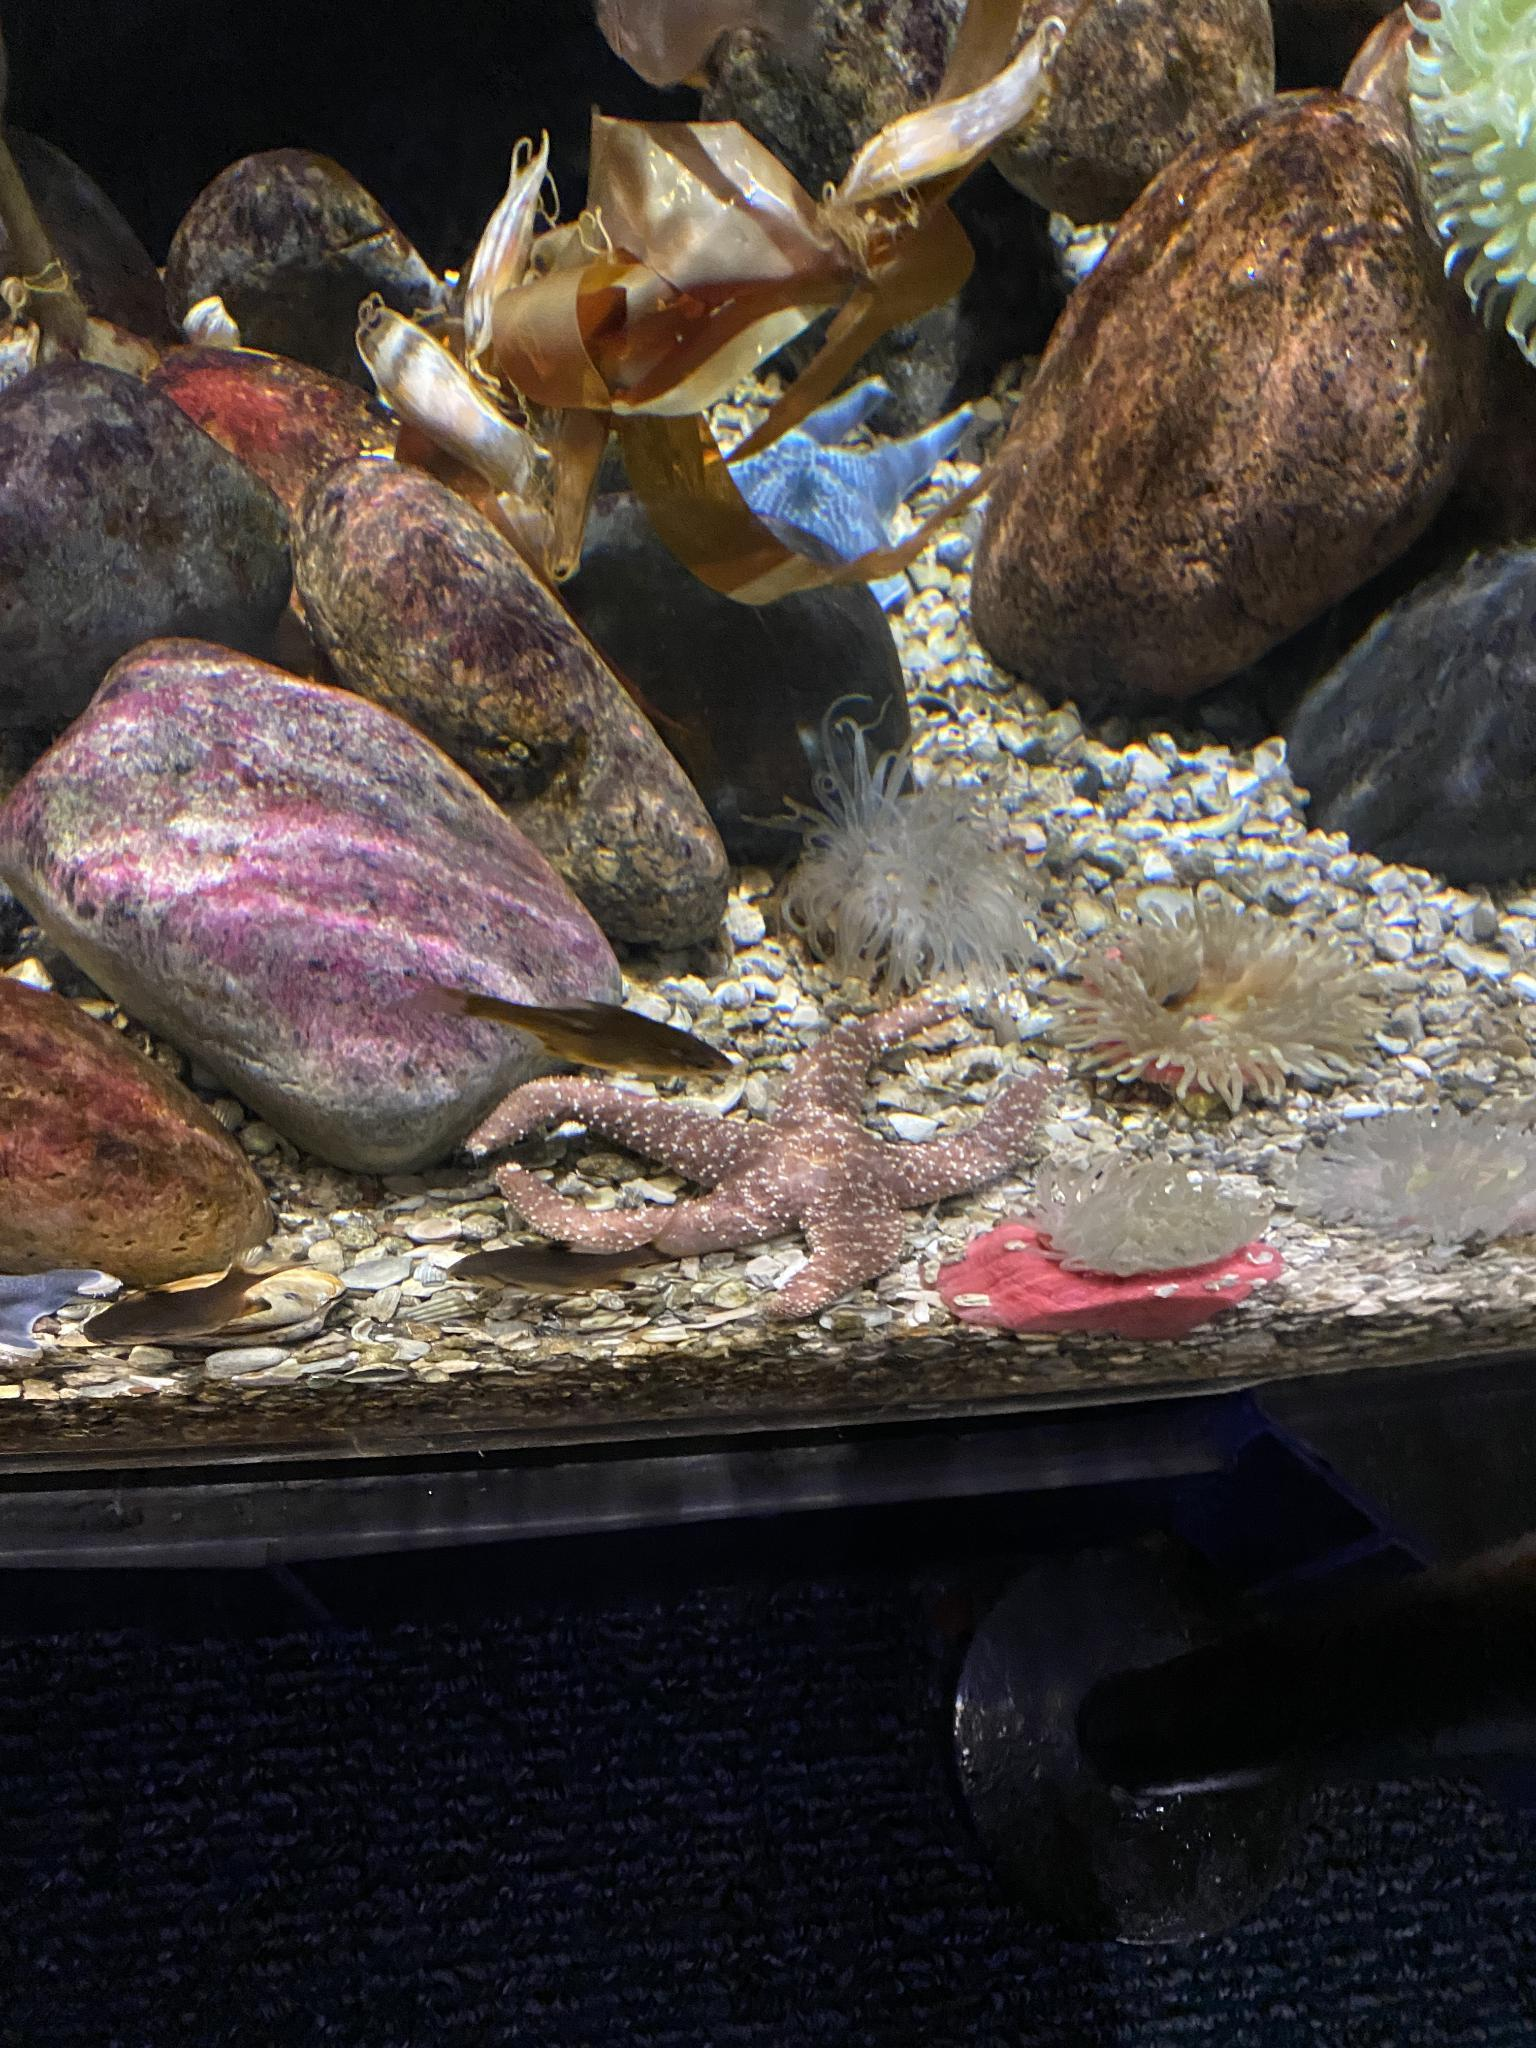fish: (395, 964, 734, 1093)
starfish: (465, 976, 1042, 1329), (707, 366, 984, 622), (0, 1269, 116, 1364)
